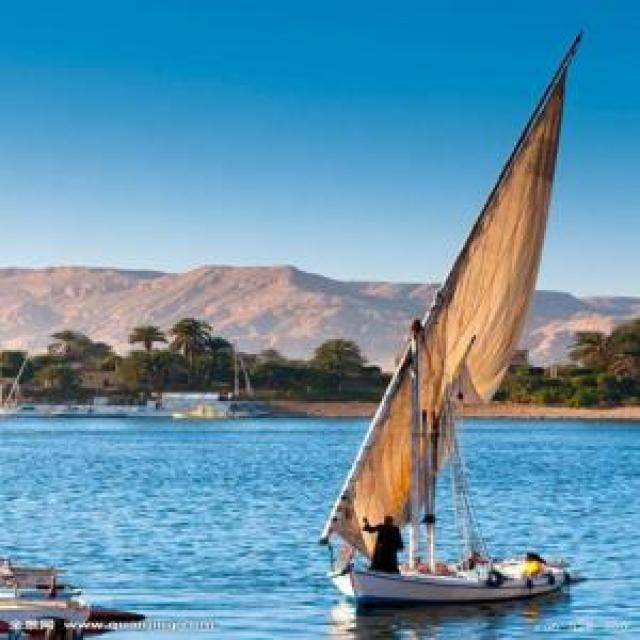sailboat: (331, 25, 584, 611)
